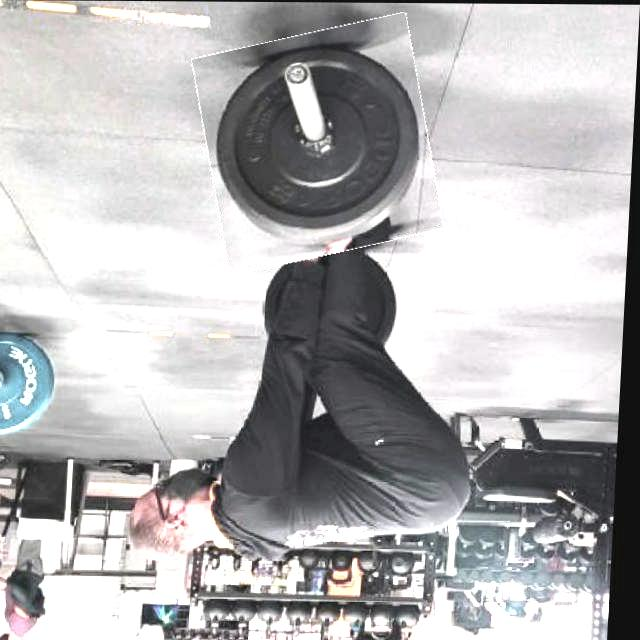barbell: (195, 22, 444, 266)
